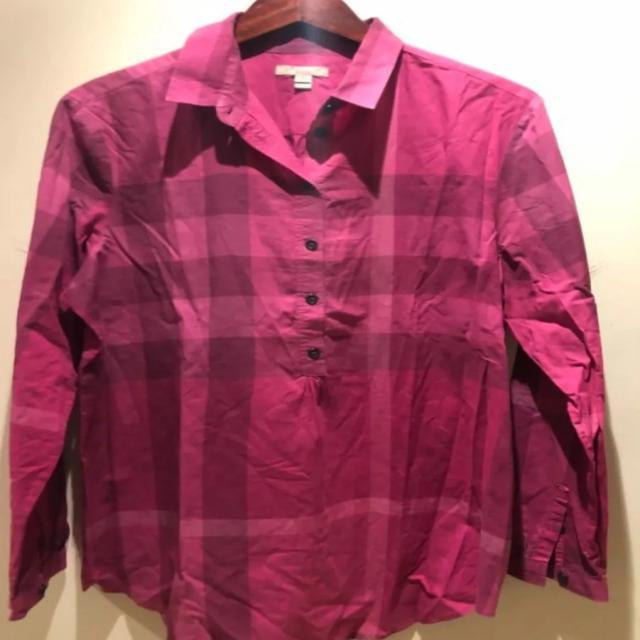long sleeve shirt: (0, 9, 611, 640)
